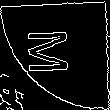M_E: (29, 31, 81, 79)
